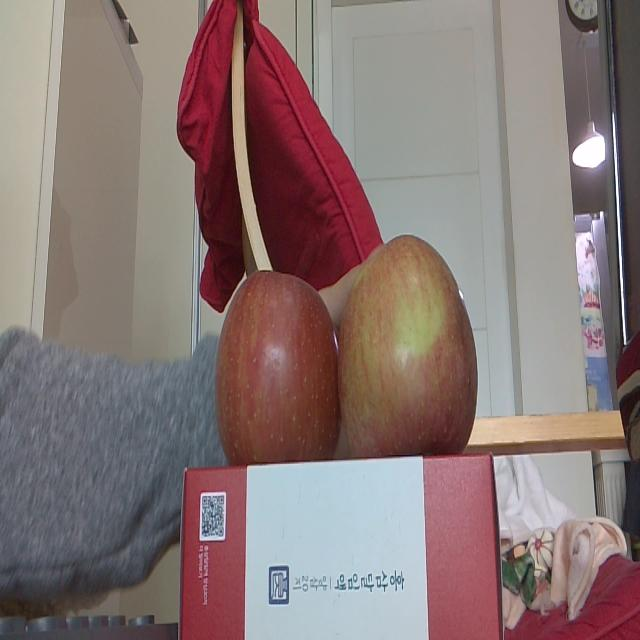apple: (340, 234, 478, 454), (216, 271, 340, 462)
